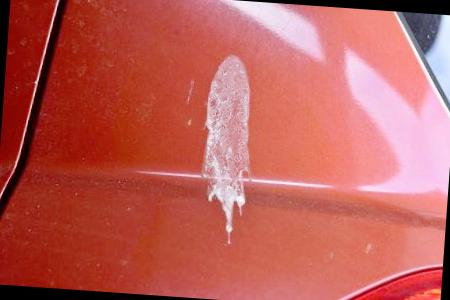Bird Poop: (202, 55, 249, 242)
